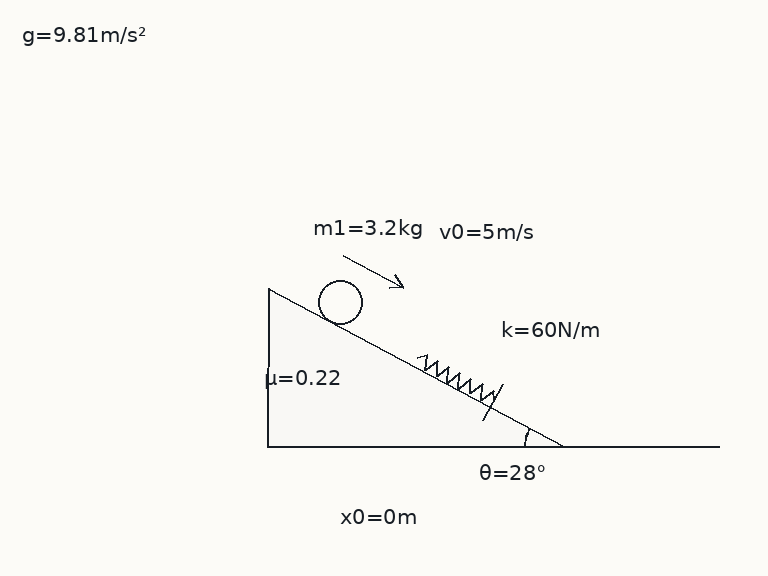ball: (316, 278, 364, 326)
ramp: (265, 287, 567, 449)
spring: (415, 353, 497, 402)
